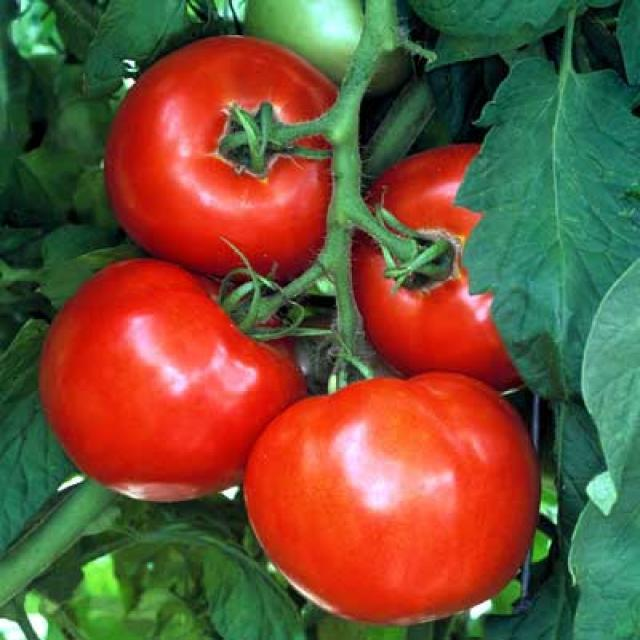kirmizi: (36, 250, 556, 622)
